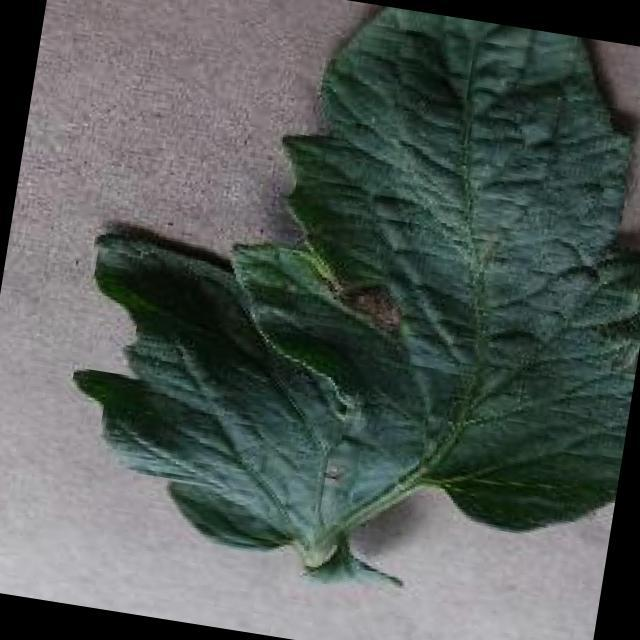Tomato Early blight leaf: (47, 0, 640, 625)
